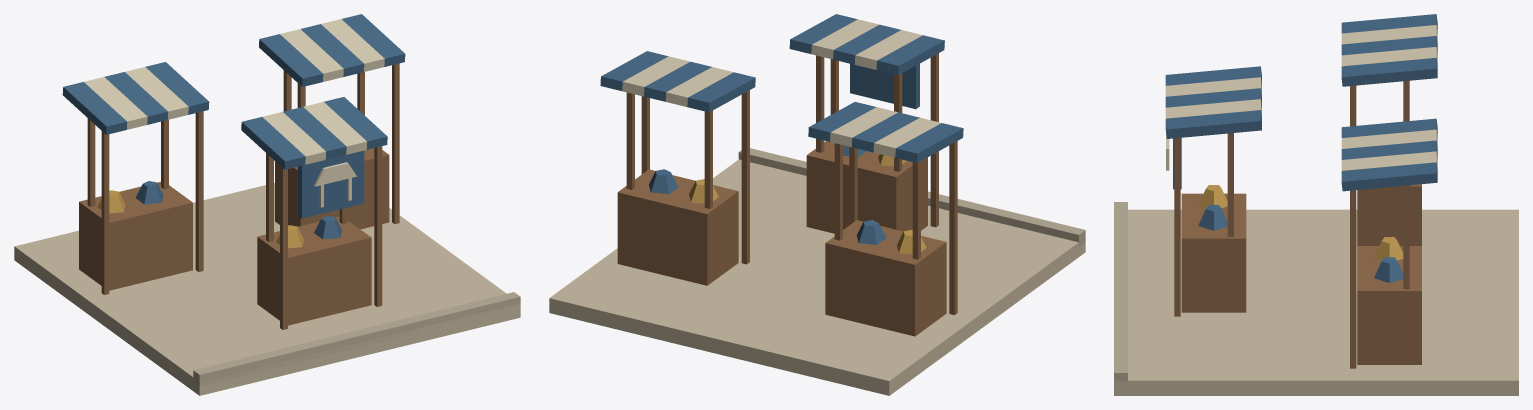
The model's file is market-seabreeze-complete.glb.
3 views of the same model, side by side, from view 1: azimuth 30°, elevation 25°; view 2: azimuth 150°, elevation 25°; view 3: azimuth 270°, elevation 25° (orthographic). The views are drawn at different scales.
Visible parts, largest first — view 1: market; view 2: market; view 3: market.
Part boxes in pixels (box(x1,y1,x2,y2)): market: box(14, 14, 520, 395); market: box(549, 14, 1085, 395); market: box(1114, 14, 1518, 395).
Bounding box in the file's own units: 2.88 × 1.7 × 2.88.
